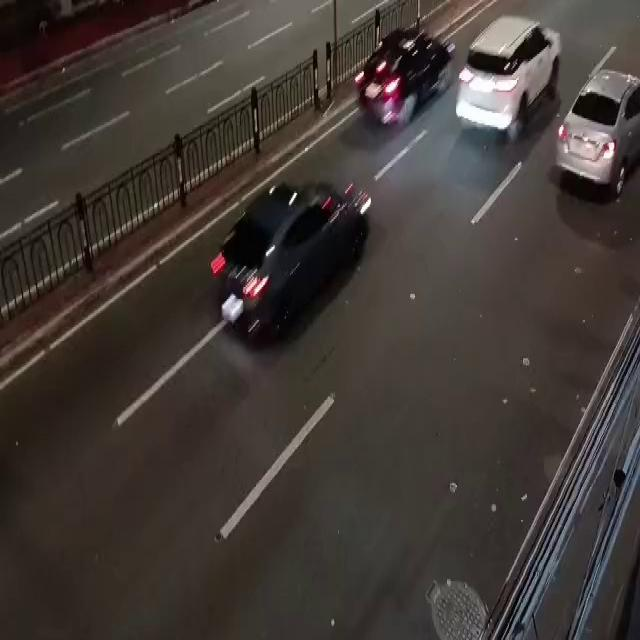car: (200, 146, 384, 318), (352, 19, 454, 135), (460, 19, 554, 136), (560, 71, 638, 193)
